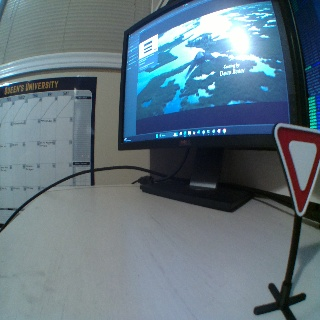sign_yield: (272, 122, 319, 215)
